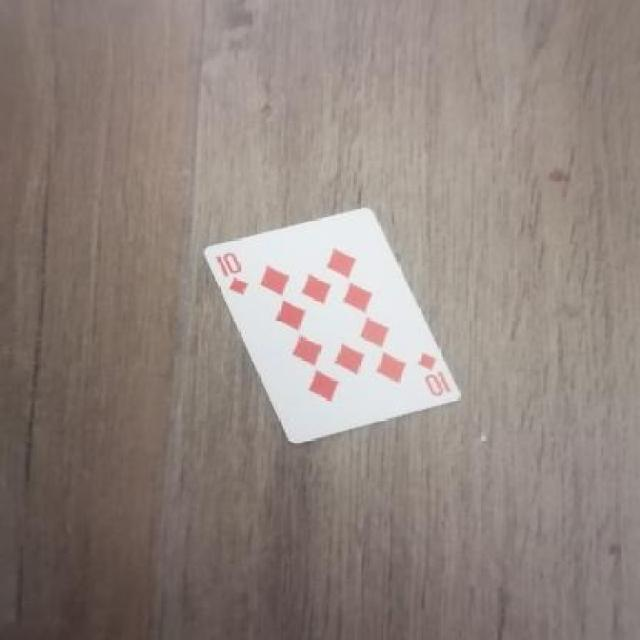10D: (409, 346, 456, 400), (209, 249, 253, 302)
